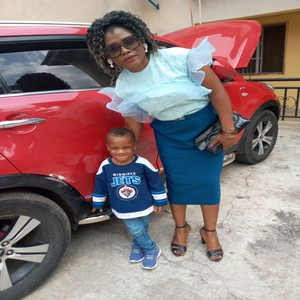Fulokoja_female_student: (110, 10, 208, 212)
